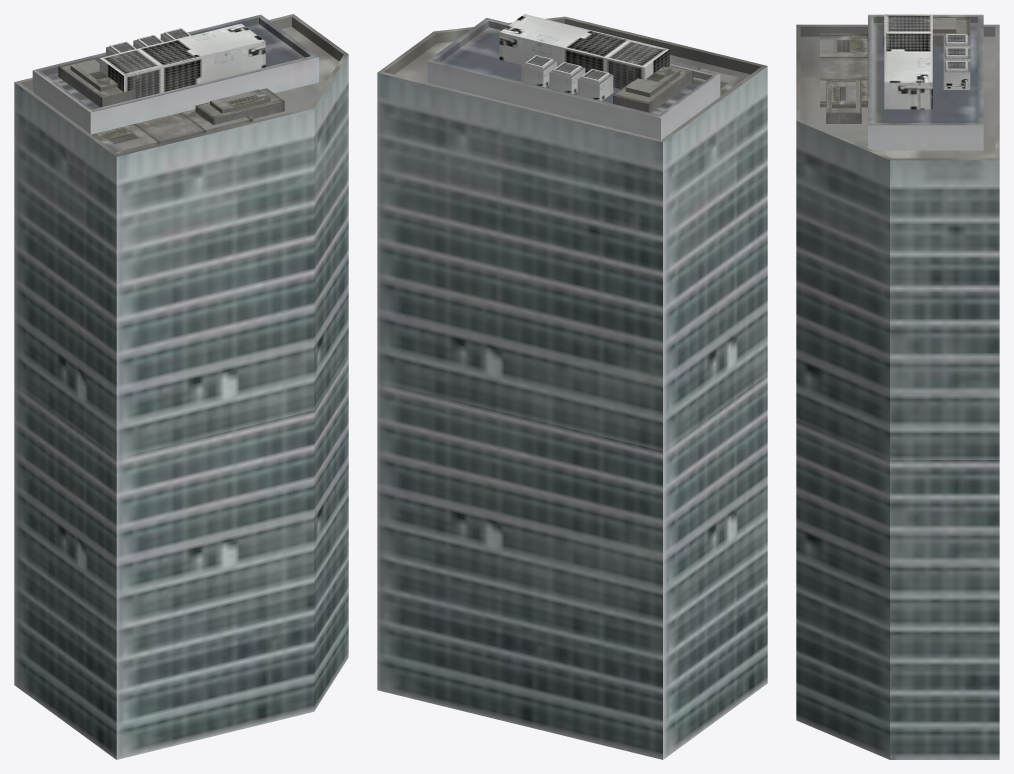
3 views of the same model, side by side, from view 1: azimuth 30°, elevation 25°; view 2: azimuth 150°, elevation 25°; view 3: azimuth 270°, elevation 25° (orthographic). The views are drawn at different scales.
Size of the model in its own units: 0.3479 by 0.7609 by 0.2205.
1 material, 1 textured.
